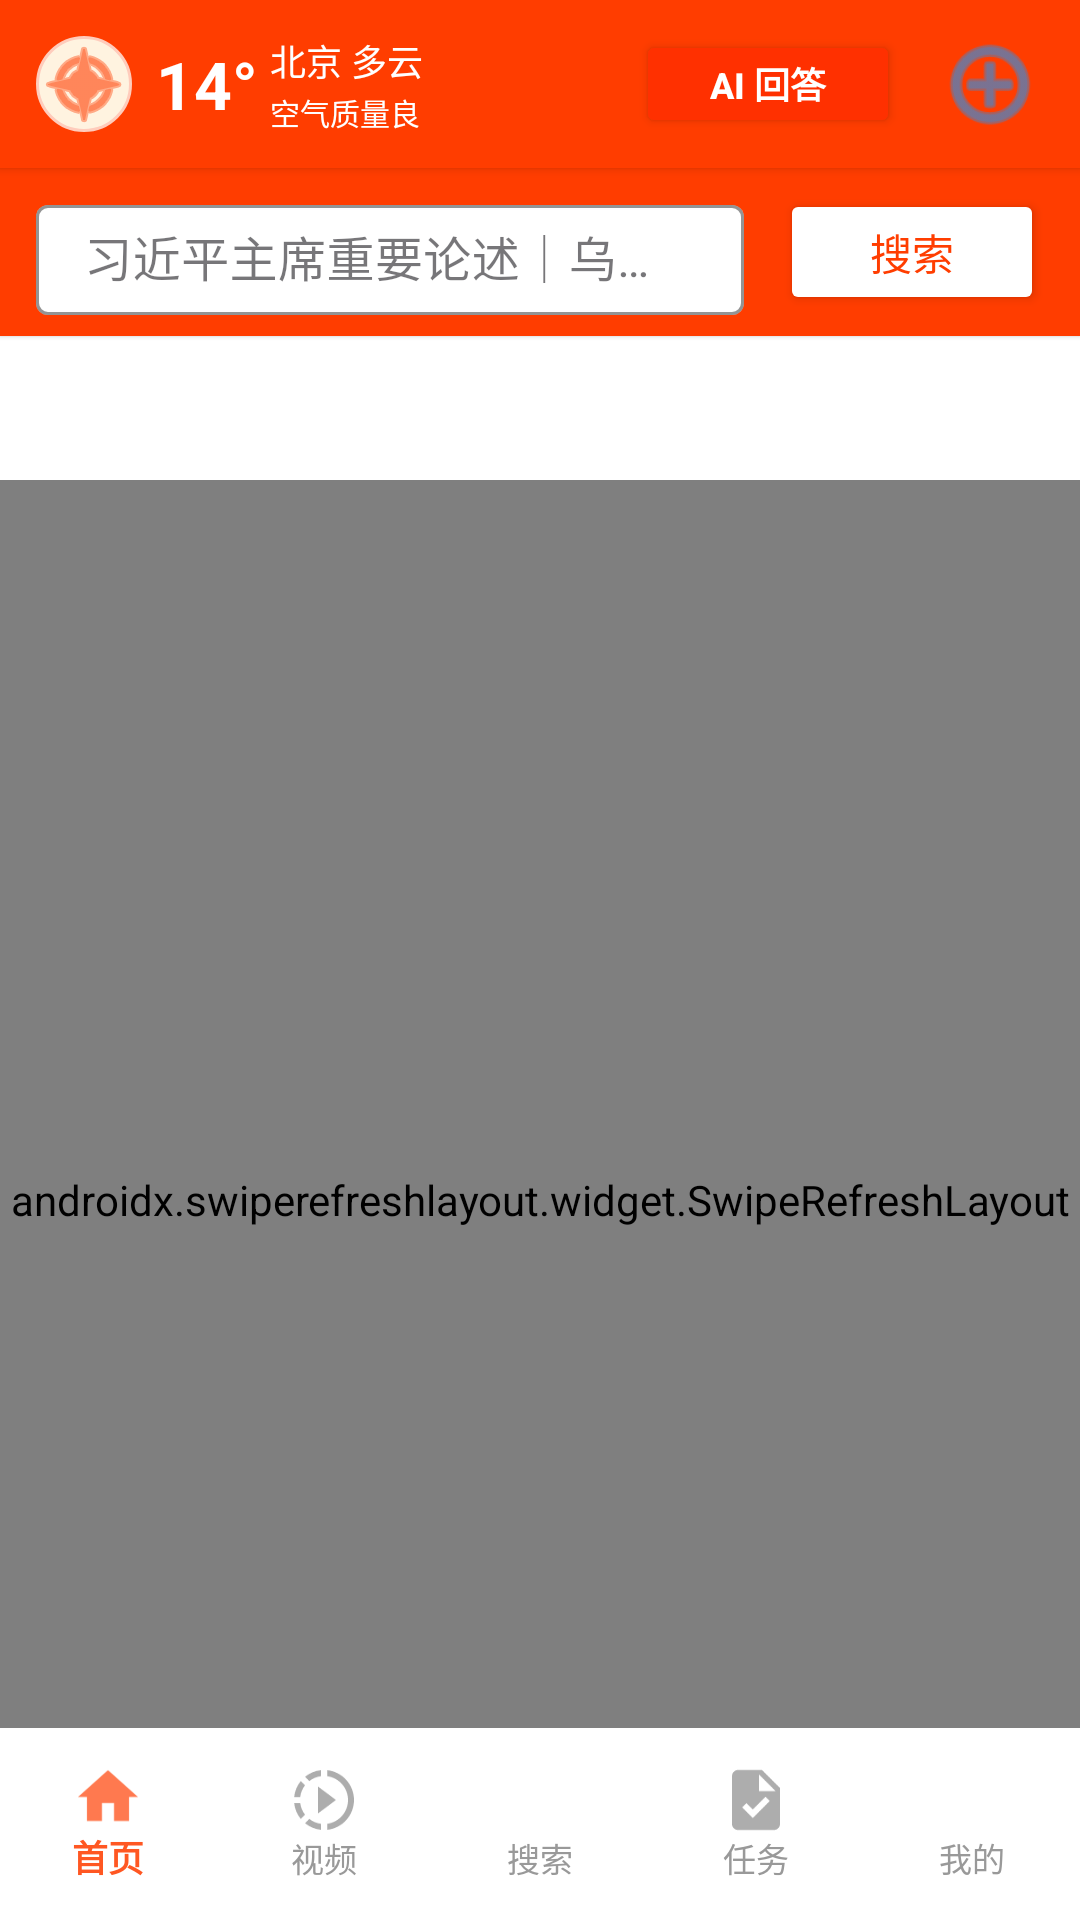

Named icons in this screenshot (1080px x 1920px) and their centers, [x,y]:
add: [990,84]
compass: [84,84]
